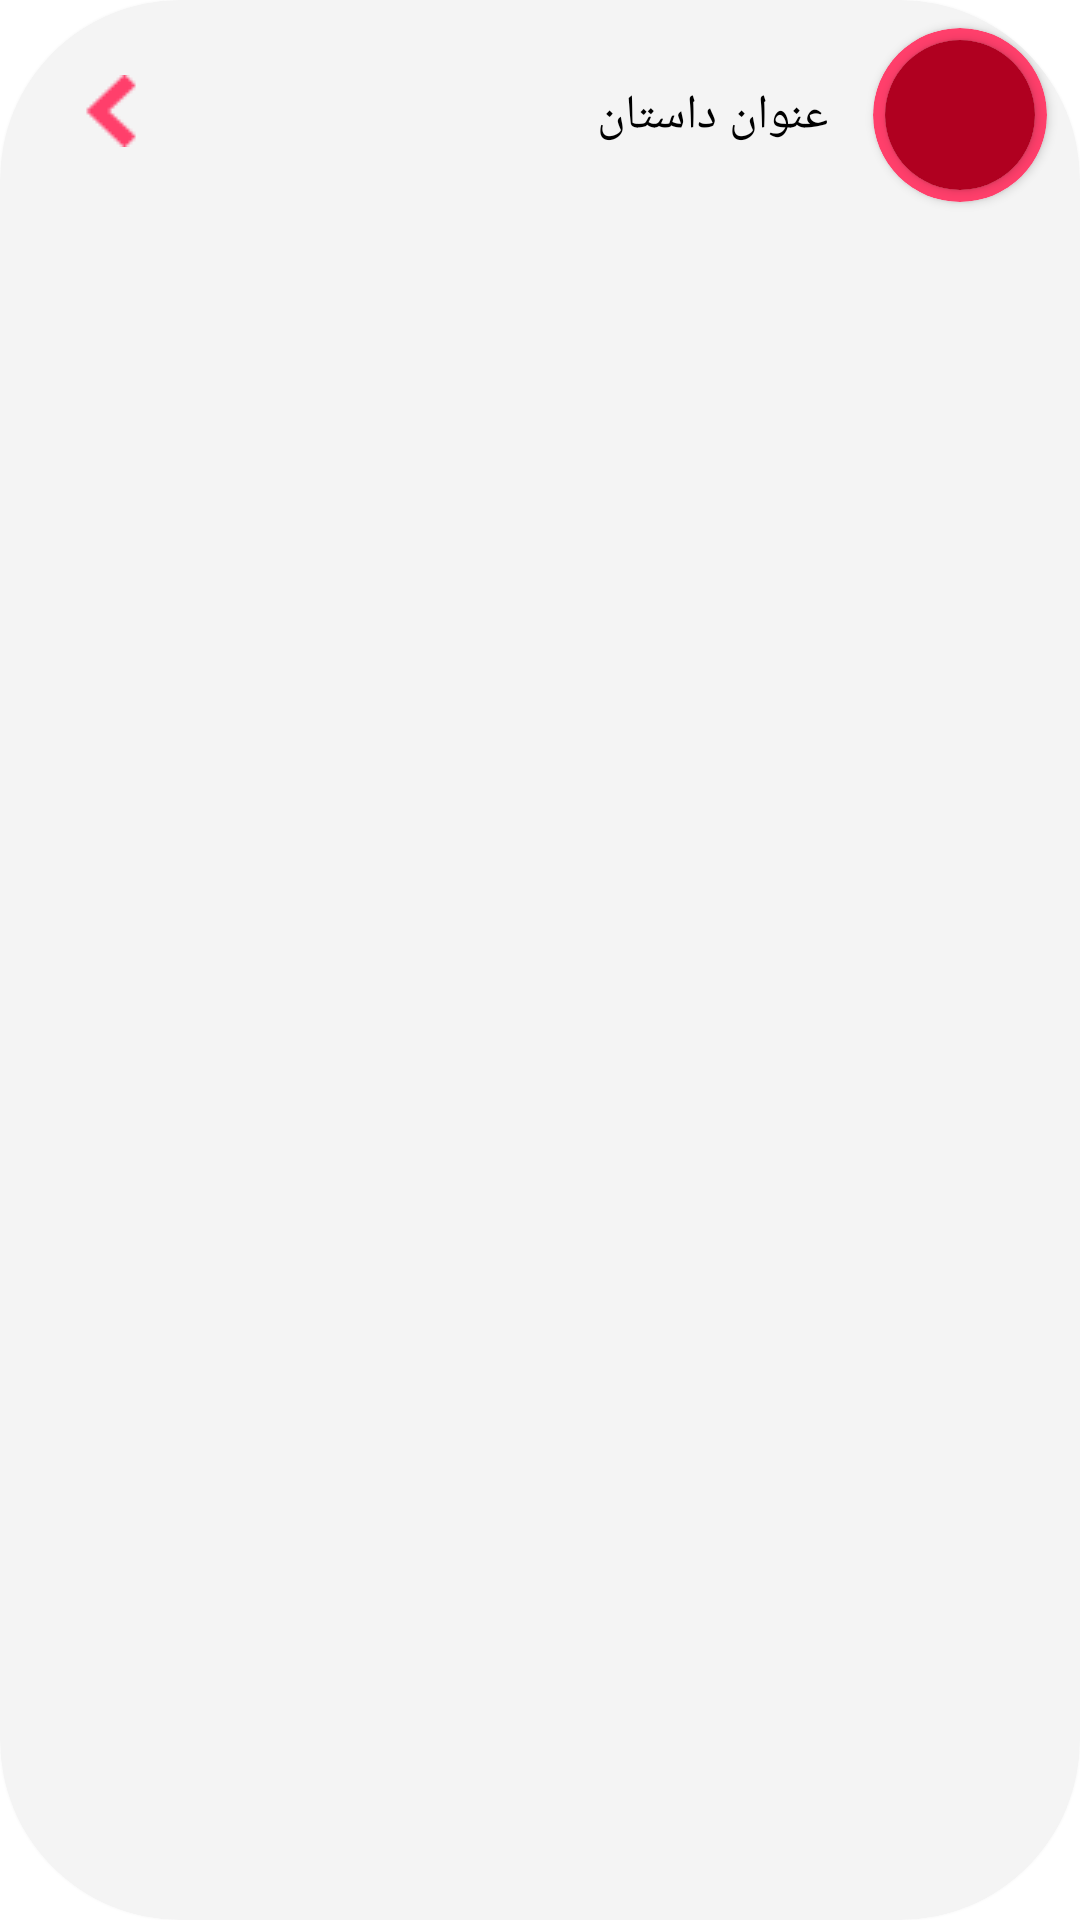

Icon bounding boxes for this 1080 × 1920 phone screenshot, format rect(x1, y1, x2, y2):
left: rect(86, 75, 136, 147)
